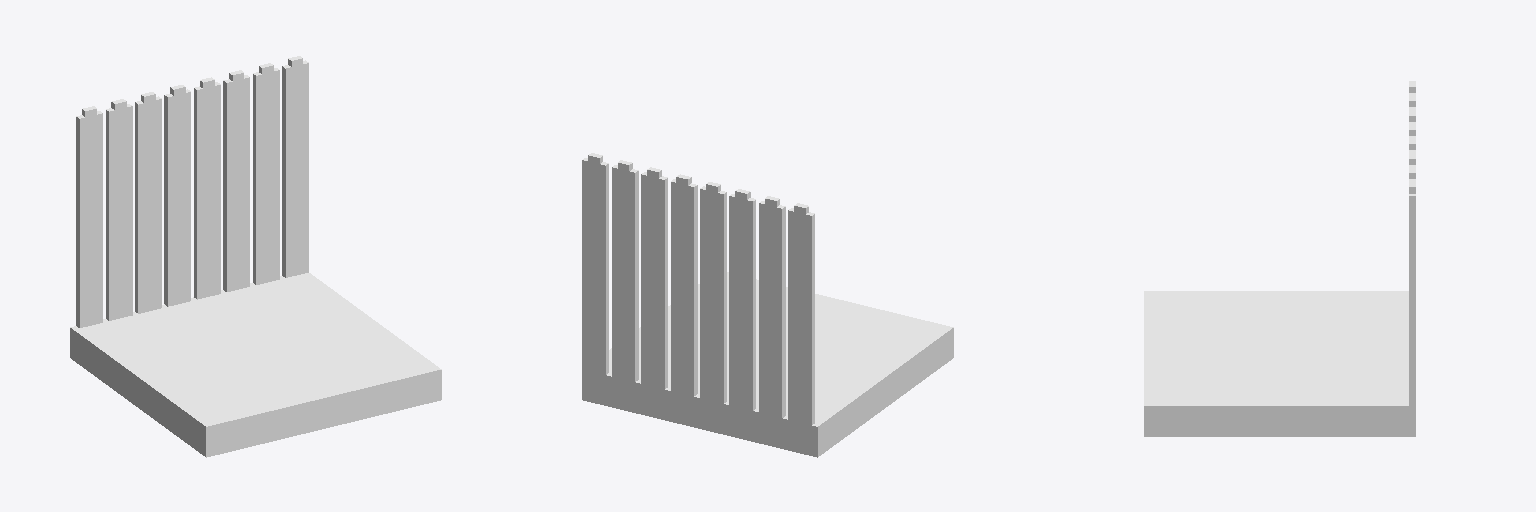
The model's file is fenceNormal.obj.
3 renders of one model, left to right at view 1: azimuth 30°, elevation 25°; view 2: azimuth 150°, elevation 25°; view 3: azimuth 270°, elevation 25°, orthographic.
Parts seen in each view (by area): view 1: object 1; view 2: object 1; view 3: object 1.
Boxes of the visible parts, box(x1,y1,x2,y2) form: object 1: box(70, 56, 441, 457); object 1: box(582, 153, 953, 457); object 1: box(1144, 81, 1415, 436).
Bounding box in the file's own units: 4 × 4 × 4.